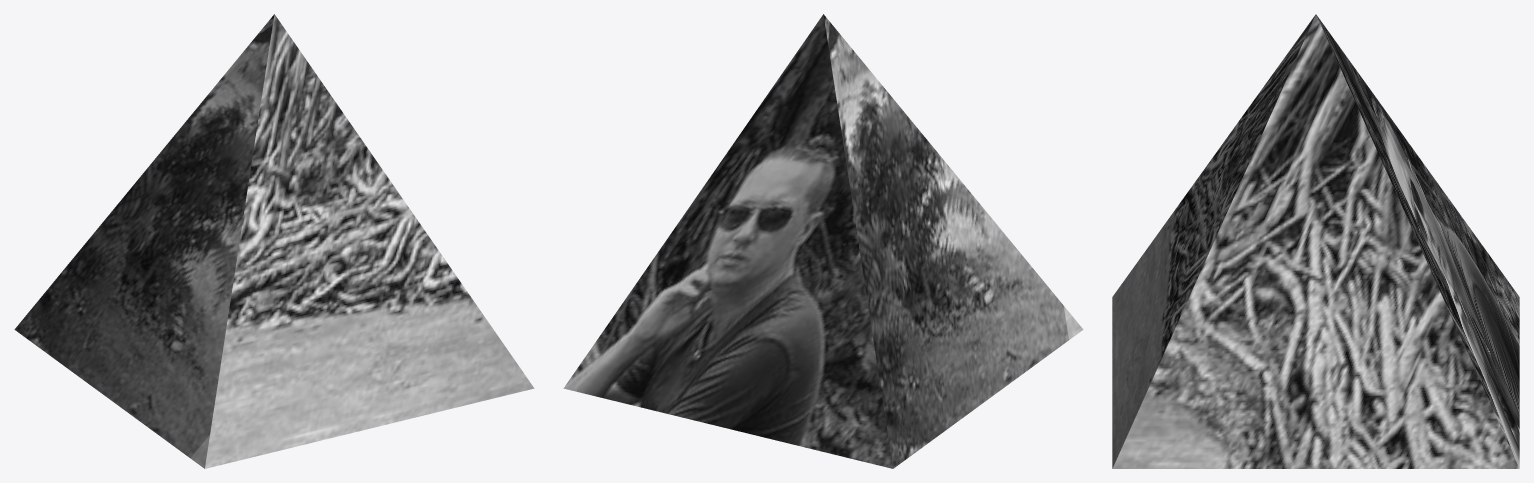
The model's file is guariogon.glb.
3 views of the same model, side by side, from view 1: azimuth 30°, elevation 25°; view 2: azimuth 150°, elevation 25°; view 3: azimuth 270°, elevation 25° (orthographic). The views are drawn at different scales.
Visible parts, largest first — view 1: Guario_Gon; view 2: Guario_Gon; view 3: Guario_Gon.
Part boxes in pixels (x1,y1,x2,y2): Guario_Gon: (14,14,534,468); Guario_Gon: (563,14,1083,468); Guario_Gon: (1112,14,1519,468).
Bounding box in the file's own units: 2 × 2 × 2.
1 material, 1 textured.
